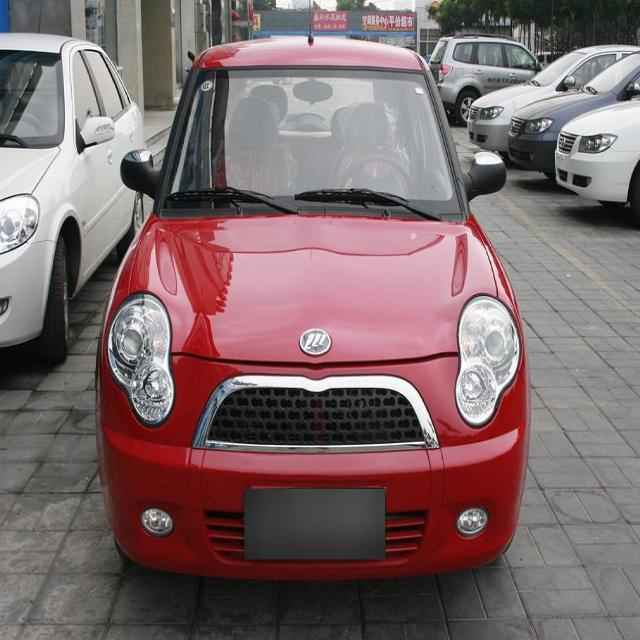front_bumper: (96, 416, 532, 577)
front_glass: (165, 68, 458, 204)
front_left_side_light: (453, 291, 523, 433)
front_left_side_mirror: (461, 150, 508, 203)
front_right_side_light: (104, 289, 177, 430)
front_right_side_mirror: (120, 147, 160, 204)
